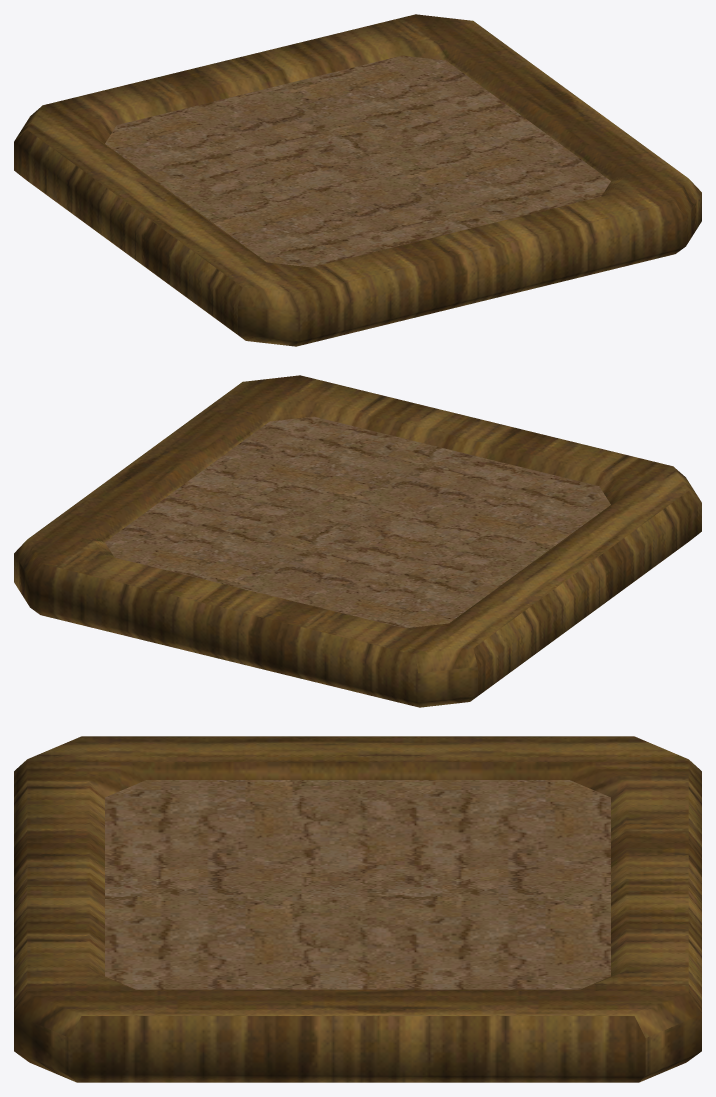
File: SunBeachPlatformPart.fbx
The picture shows the model from 3 angles, top to bottom: view 1: azimuth 30°, elevation 25°; view 2: azimuth 150°, elevation 25°; view 3: azimuth 270°, elevation 25°; orthographic projection. The views are drawn at different scales.
Visible parts, largest first — view 1: Plane.000, Plane.001; view 2: Plane.000, Plane.001; view 3: Plane.000, Plane.001.
Boxes of the visible parts, bbox=[...] form: Plane.000: bbox=[14, 14, 701, 346]; Plane.001: bbox=[105, 55, 610, 267]; Plane.000: bbox=[14, 375, 701, 707]; Plane.001: bbox=[105, 416, 610, 628]; Plane.000: bbox=[14, 736, 701, 1082]; Plane.001: bbox=[105, 780, 610, 989].
Size of the model in its own units: 50163 by 5437 by 50163.
2 materials, 2 textured.
